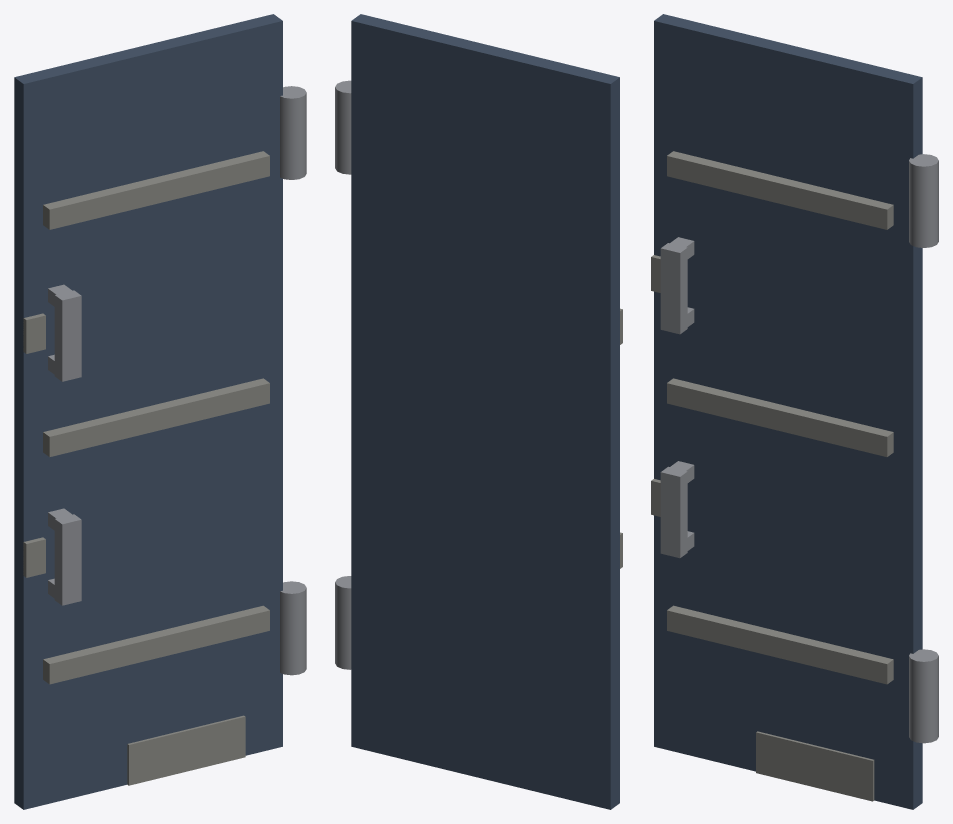
File: pb8_reload_hatch.obj
The picture shows the model from 3 angles, left to right: view 1: azimuth 30°, elevation 25°; view 2: azimuth 150°, elevation 25°; view 3: azimuth 330°, elevation 25°; orthographic projection.
Visible parts, largest first — view 1: pb8_reload_hatch; view 2: pb8_reload_hatch; view 3: pb8_reload_hatch.
Part boxes in pixels (x1=…): pb8_reload_hatch: x1=14, y1=14, x2=306, y2=809; pb8_reload_hatch: x1=335, y1=14, x2=622, y2=809; pb8_reload_hatch: x1=651, y1=14, x2=938, y2=809.
Bounding box in the file's own units: 0.435 × 1.07 × 0.0675.
